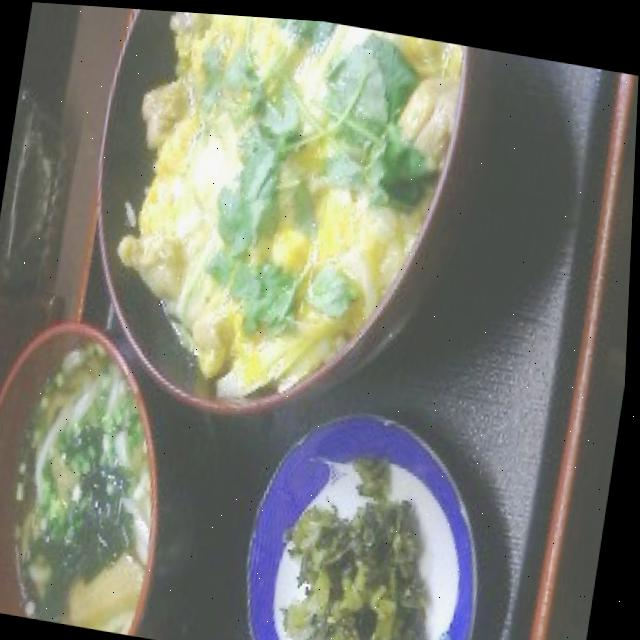米饭主食: (49, 3, 516, 439)
